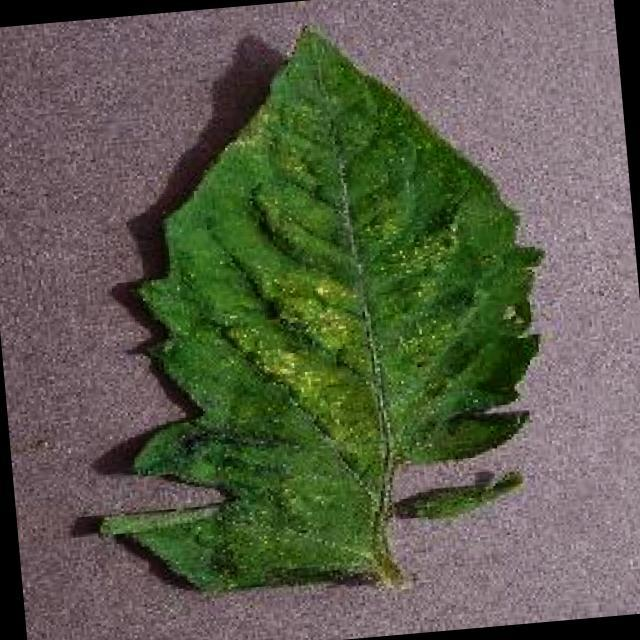Tomato spider mites leaf: (53, 0, 571, 614)
